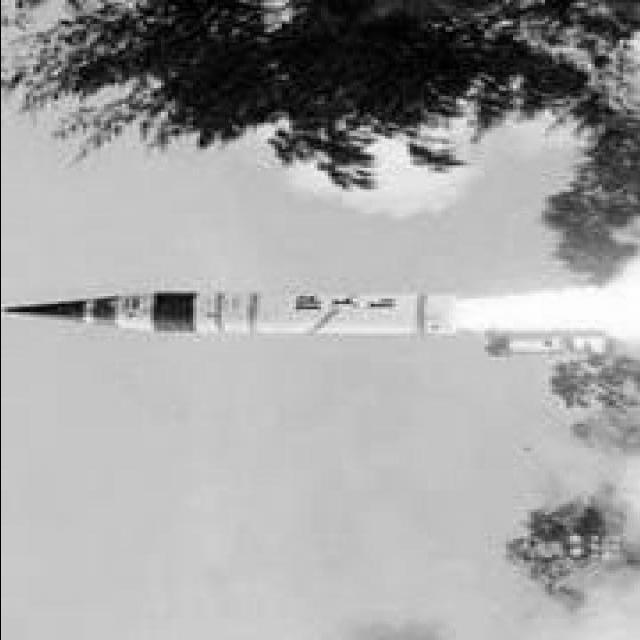Missile: (4, 281, 468, 342)
